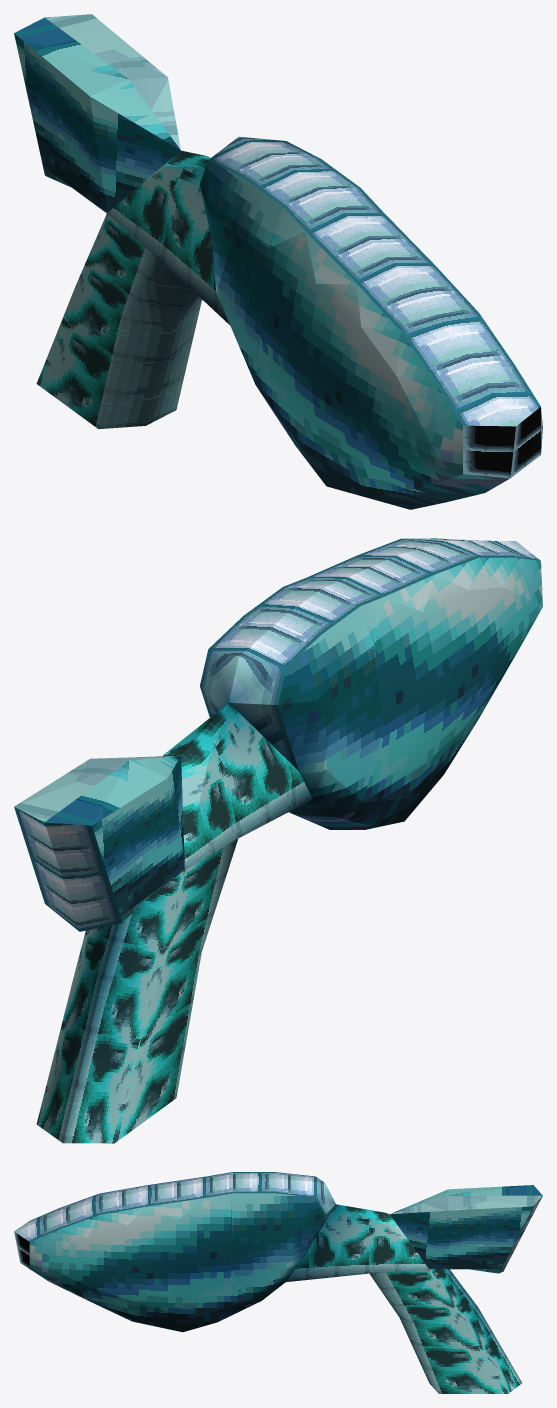
Rendered from 06-phoenix-fp.glb.
The picture shows the model from 3 angles, top to bottom: view 1: azimuth 30°, elevation 25°; view 2: azimuth 150°, elevation 25°; view 3: azimuth 270°, elevation 25°; orthographic projection. The views are drawn at different scales.
Visible parts, largest first — view 1: gun; view 2: gun; view 3: gun.
Part boxes in pixels (x1,y1,x2,y2): gun: [14, 14, 542, 509]; gun: [14, 538, 542, 1143]; gun: [14, 1172, 542, 1393].
Size of the model in its own units: 67.75 by 172 by 403.
5 materials, 5 textured.
